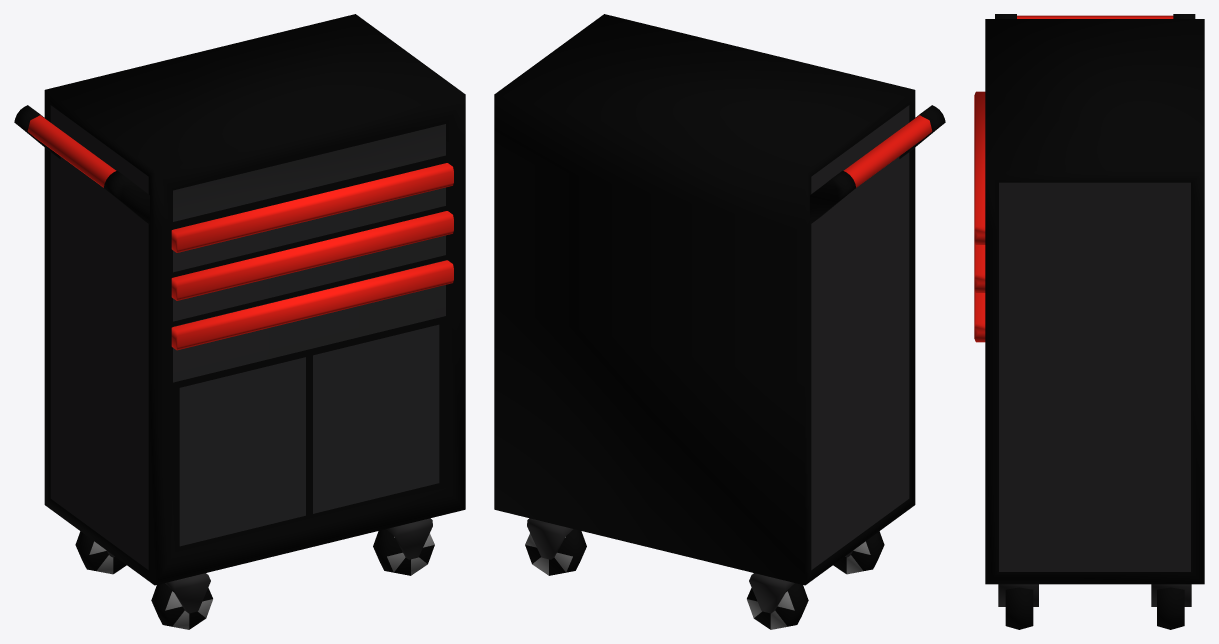
File: CarrinhoFerramentas.fbx
The picture shows the model from 3 angles, left to right: view 1: azimuth 30°, elevation 25°; view 2: azimuth 150°, elevation 25°; view 3: azimuth 270°, elevation 25°; orthographic projection.
Parts seen in each view (by area): view 1: CarrinhoFerramentas; view 2: CarrinhoFerramentas; view 3: CarrinhoFerramentas.
Boxes of the visible parts, bbox=[...] form: CarrinhoFerramentas: bbox=[14, 14, 465, 629]; CarrinhoFerramentas: bbox=[494, 14, 945, 629]; CarrinhoFerramentas: bbox=[974, 14, 1204, 629].
Bounding box in the file's own units: 80.07 × 106 × 46.31.
